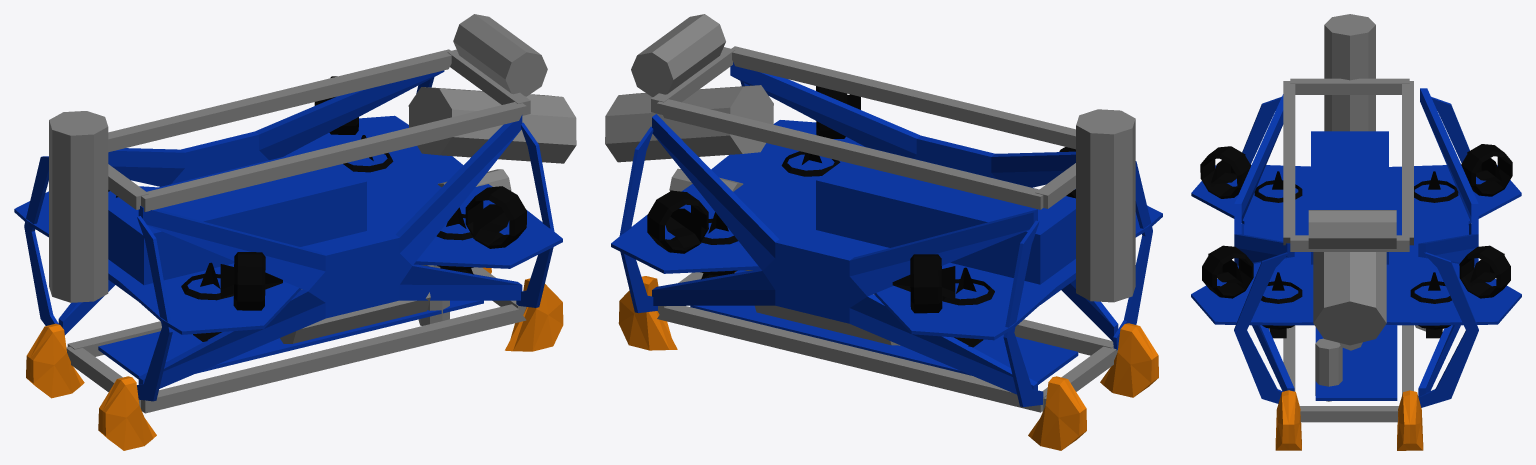
The picture shows the model from 3 angles, left to right: view 1: azimuth 30°, elevation 25°; view 2: azimuth 150°, elevation 25°; view 3: azimuth 270°, elevation 25°; orthographic projection. The views are drawn at different scales.
Visible parts, largest first — view 1: Frame, Connecting_Rods, Tubes, Computer_Box, Feet, Bottom_Plate, FRH, BRH, BRV, FRV; view 2: Frame, Connecting_Rods, Tubes, Computer_Box, Feet, Bottom_Plate, FLH, BLH, BLV, FRH, FLV, FRV; view 3: Frame, Tubes, Connecting_Rods, Computer_Box, Bottom_Plate, Feet, FRH, FLH, BLH, BRH, FRV, FLV (+2 smaller).
Part boxes in pixels (box(x1,y1,x2,y2)): Frame: box(14, 70, 562, 401); Connecting_Rods: box(66, 49, 530, 413); Tubes: box(49, 14, 576, 343); Computer_Box: box(108, 148, 366, 299); Feet: box(26, 267, 563, 450); Bottom_Plate: box(98, 300, 483, 379); FRH: box(465, 186, 526, 248); BRH: box(220, 252, 282, 310); BRV: box(181, 262, 233, 341); FRV: box(436, 207, 473, 274); Frame: box(611, 62, 1162, 406); Connecting_Rods: box(651, 46, 1117, 412); Tubes: box(605, 14, 1135, 345); Computer_Box: box(816, 147, 1075, 304); Feet: box(618, 272, 1158, 450); Bottom_Plate: box(690, 270, 1078, 384); FLH: box(647, 190, 708, 253); BLH: box(892, 254, 955, 313); BLV: box(942, 267, 994, 347); FRH: box(816, 86, 860, 138); FLV: box(700, 212, 737, 279); FRV: box(781, 151, 840, 176); Frame: box(1191, 88, 1521, 407); Tubes: box(1268, 14, 1443, 401); Connecting_Rods: box(1283, 78, 1413, 422); Computer_Box: box(1311, 131, 1388, 264); Bottom_Plate: box(1315, 325, 1397, 400); Feet: box(1275, 390, 1423, 450); FRH: box(1202, 245, 1253, 298); FLH: box(1459, 245, 1510, 298); BLH: box(1461, 144, 1512, 196); BRH: box(1200, 146, 1250, 198); FRV: box(1261, 272, 1302, 338); FLV: box(1410, 272, 1451, 338).
Size of the model in its own units: 0.9503 by 0.6325 by 0.5259.
